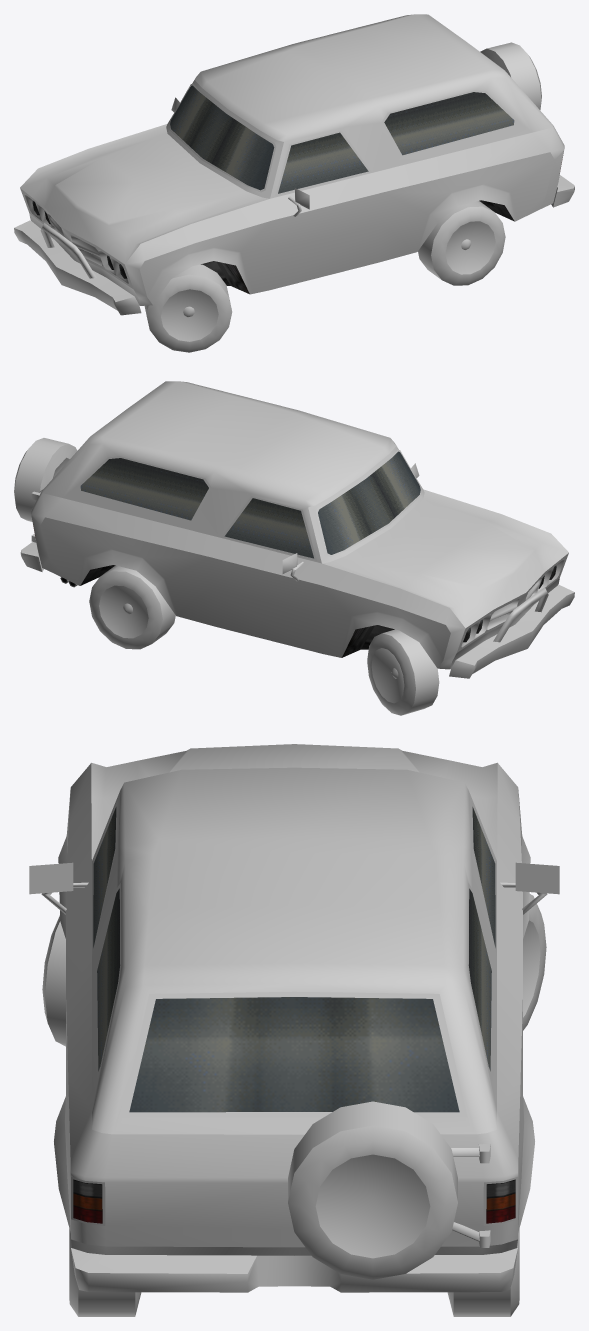
File: Stallion70.fbx
3 views of the same model, one above another, from view 1: azimuth 30°, elevation 25°; view 2: azimuth 150°, elevation 25°; view 3: azimuth 270°, elevation 25° (orthographic). The views are drawn at different scales.
Visible parts, largest first — view 1: body, Object002, Object010, Object008, Object004, Object007, Object011, Object003; view 2: body, Object002, Object009, Sport454, Object004, Object007, Object011, Object003; view 3: body, Object002, Object007, Object003, Object001, Object010, Sport454, Object008, Object009, Object006.
Boxes of the visible parts, x1,y1,x2,y2 form: body: (20, 14, 564, 305); Object002: (170, 85, 514, 193); Object010: (144, 264, 232, 352); Object008: (418, 201, 505, 285); Object004: (14, 220, 141, 315); Object007: (480, 42, 541, 109); Object011: (201, 200, 514, 294); Object003: (551, 175, 574, 207); body: (31, 381, 568, 669); Object002: (80, 451, 420, 558); Object009: (89, 565, 175, 649); Sport454: (367, 629, 439, 715); Object004: (449, 585, 574, 678); Object007: (14, 438, 77, 521); Object011: (80, 565, 394, 657); Object003: (20, 542, 43, 571); body: (29, 744, 559, 1255); Object002: (93, 807, 495, 1112); Object007: (288, 1101, 457, 1279); Object003: (71, 1248, 517, 1292); Object001: (73, 1179, 515, 1223); Object010: (42, 915, 65, 1046); Sport454: (523, 894, 546, 1030); Object008: (69, 1229, 141, 1316); Object009: (447, 1229, 519, 1316); Object006: (451, 1143, 490, 1247).
Size of the model in its own units: 4555 by 1733 by 2173.
